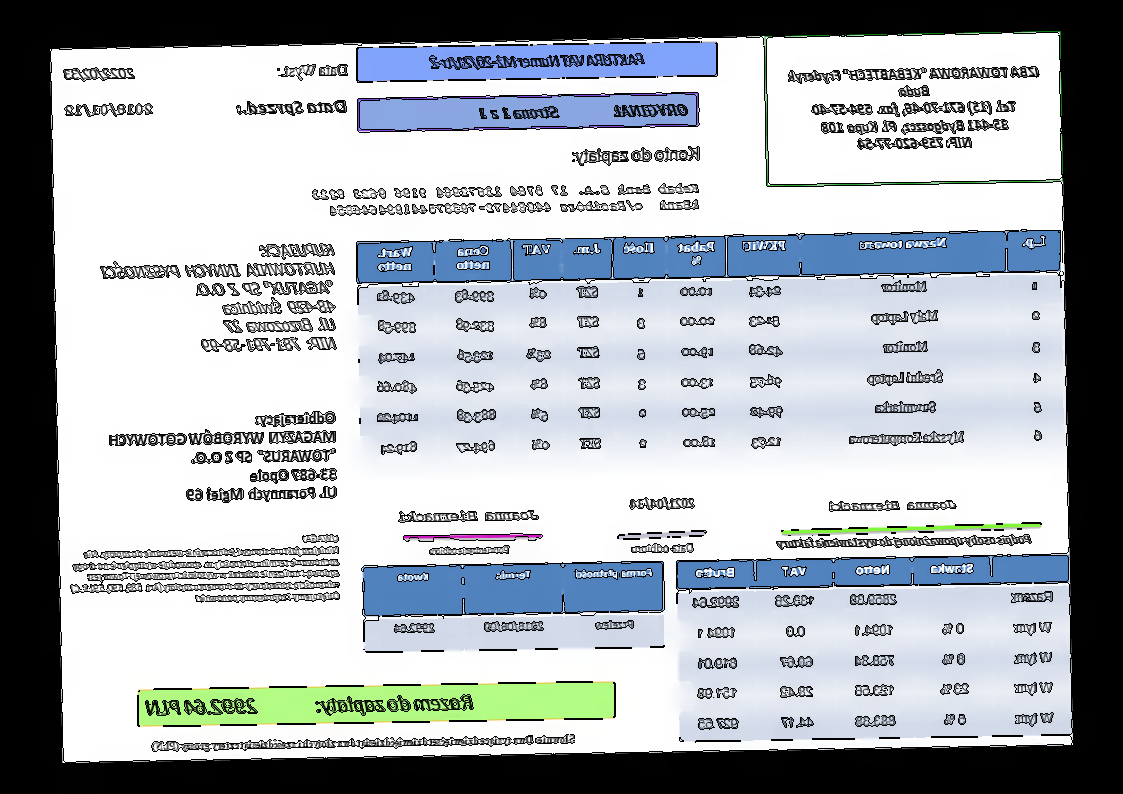Table: (356, 229, 1066, 467), (675, 553, 1072, 742), (362, 561, 665, 653)
TextBox: (98, 240, 339, 356), (785, 64, 1042, 155), (107, 409, 339, 507), (67, 530, 341, 607), (309, 180, 701, 220), (144, 692, 476, 721), (150, 732, 578, 754), (777, 531, 1034, 551), (427, 51, 646, 73), (475, 100, 690, 121), (569, 143, 702, 168), (397, 507, 541, 525), (236, 96, 348, 119), (827, 497, 957, 514), (63, 100, 156, 119), (60, 65, 139, 83), (276, 61, 350, 80), (628, 495, 697, 514), (428, 544, 511, 557), (631, 541, 696, 555)
